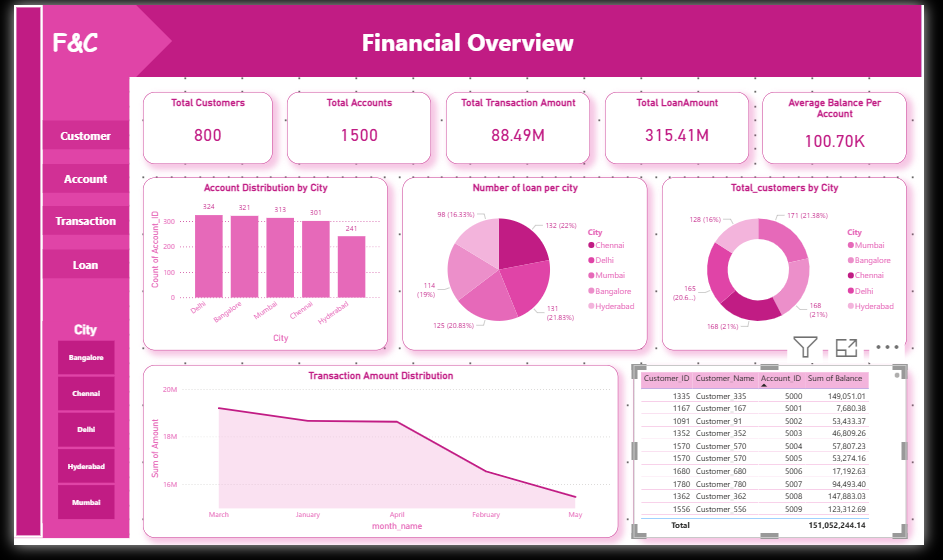

The page's visual inventory and layout, read from the dashboard file:
{"tool":"powerbi","page":{"name":"Financial overview","canvas":[1517,900],"ordinal":0},"visuals":[{"type":"shape","box":[0,96,192,792],"z":0},{"type":"shape","box":[0,0,1512,120],"z":1000},{"type":"card","title":"Total Customers","fields":{"Values":["Basic Measure.Total_customers"]},"box":[216,144,216,120],"z":2000},{"type":"card","title":"Total Transaction Amount","fields":{"Values":["Basic Measure.Total Transaction Amount"]},"box":[720,144,240,120],"z":3000},{"type":"card","title":"Average Balance Per Account","fields":{"Values":["Balance & Account Measure.Avarage Balance Per Account"]},"box":[1248,144,240,120],"z":4000},{"type":"card","title":"Total Accounts","fields":{"Values":["Basic Measure.Total_Accounts"]},"box":[456,144,240,120],"z":5000},{"type":"card","title":"Total LoanAmount","fields":{"Values":["Loan Analysis.Total Loan Amount"]},"box":[984,144,240,120],"z":6000},{"type":"clusteredColumnChart","title":" Account Distribution by City","fields":{"Category":["Branches.City"],"Y":["CountNonNull(Accounts.Account_ID)"]},"box":[216,288,408,288],"z":7000},{"type":"pieChart","title":"Number of loan per city","fields":{"Category":["Branches.City"],"Y":["CountNonNull(Loans.Loan_ID)"]},"box":[648,288,408,288],"z":8000},{"type":"stackedAreaChart","title":"Transaction Amount Distribution","fields":{"Y":["Sum(Transactions.Amount)"],"Category":["Transactions.month_name"]},"box":[216,600,792,288],"z":9000},{"type":"donutChart","fields":{"Category":["Branches.City"],"Y":["Basic Measure.Total_customers"]},"box":[1080,288,408,288],"z":10000},{"type":"tableEx","fields":{"Values":["Customers.Customer_ID","Customers.Customer_Name","Accounts.Account_ID","Sum(Accounts.Balance)"]},"box":[1032,600,456,288],"z":11000},{"type":"shape","box":[0,0,1512,120],"z":12000},{"type":"shape","box":[0,72,192,816],"z":13000},{"type":"shape","box":[0,0,264,120],"z":14000},{"type":"shape","box":[0,0,48,888],"z":15000},{"type":"actionButton","box":[48,192,144,48],"z":16000},{"type":"actionButton","box":[48,336,144,48],"z":17000},{"type":"actionButton","box":[48,264,144,48],"z":18000},{"type":"actionButton","box":[48,408,144,48],"z":19000},{"type":"slicer","title":"City","fields":{"Values":["Branches.City"]},"box":[48,528,144,336],"z":20000}]}

Visuals, with their boxes in screenshot pixels (x1, y1, x2, y2), scaled from the page's 1517x900 canvas onto the 943x560 screenshot:
shape: x1=0, y1=60, x2=119, y2=553
shape: x1=0, y1=0, x2=940, y2=75
"Total Customers" card: x1=134, y1=90, x2=269, y2=164
"Total Transaction Amount" card: x1=448, y1=90, x2=597, y2=164
"Average Balance Per Account" card: x1=776, y1=90, x2=925, y2=164
"Total Accounts" card: x1=283, y1=90, x2=433, y2=164
"Total LoanAmount" card: x1=612, y1=90, x2=761, y2=164
" Account Distribution by City" clusteredColumnChart: x1=134, y1=179, x2=388, y2=358
"Number of loan per city" pieChart: x1=403, y1=179, x2=656, y2=358
"Transaction Amount Distribution" stackedAreaChart: x1=134, y1=373, x2=627, y2=553
donutChart - Branches.City x Basic Measure.Total_customers: x1=671, y1=179, x2=925, y2=358
tableEx - Customers.Customer_ID x Customers.Customer_Name: x1=642, y1=373, x2=925, y2=553
shape: x1=0, y1=0, x2=940, y2=75
shape: x1=0, y1=45, x2=119, y2=553
shape: x1=0, y1=0, x2=164, y2=75
shape: x1=0, y1=0, x2=30, y2=553
actionButton: x1=30, y1=119, x2=119, y2=149
actionButton: x1=30, y1=209, x2=119, y2=239
actionButton: x1=30, y1=164, x2=119, y2=194
actionButton: x1=30, y1=254, x2=119, y2=284
"City" slicer: x1=30, y1=329, x2=119, y2=538
